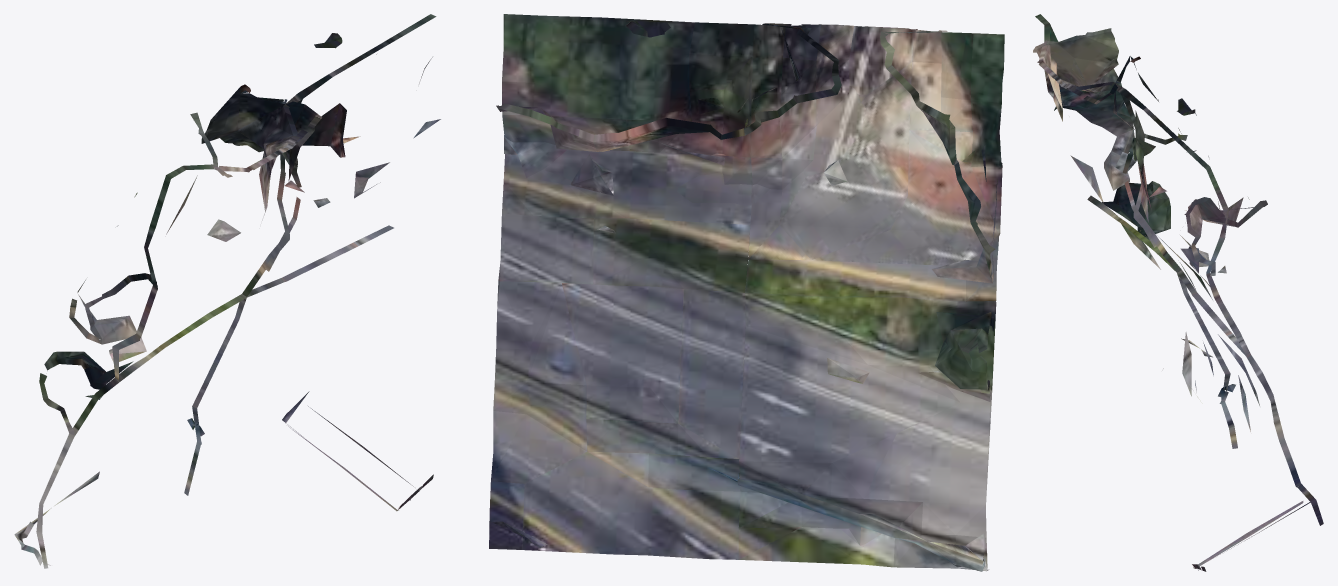
Rendered from AJVsH2ySPXmAykLtgDFcNCyhBjbmtO4d5srhQkzM6FK7O8XD8bBBBJr3pbJPoYZjCVbM2Se09g95TyZ6aRZlEnIWrfSRwfMnpmvQYpQTElt8iFSOwXCc2jBzCJj2AIuHxm_Jitlkc2mAFbrj1fuDPbXiWPti.glb.
3 renders of one model, left to right at view 1: azimuth 30°, elevation 25°; view 2: azimuth 150°, elevation 25°; view 3: azimuth 270°, elevation 25°, orthographic. The views are drawn at different scales.
Size of the model in its own units: 39.09 by 41.87 by 25.51.
Materials: 1 (1 with a texture image).
